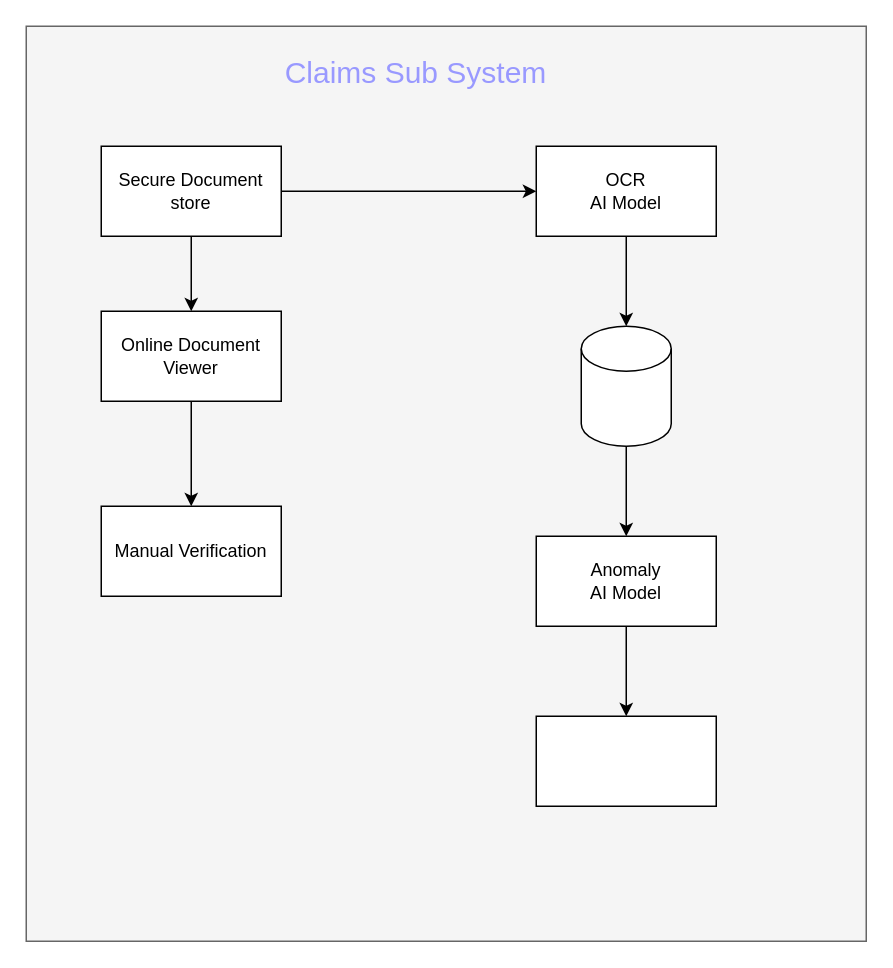
Some shapes in this 893 by 968 pixel diagram are drawn without their labels. The shapes that lost their labels are listed below. From the top down, each one's box as (x1, y1, x2, y2) in pixels, then its label:
(580, 325, 671, 446): Big DB
(535, 715, 716, 806): Cost AI Model
